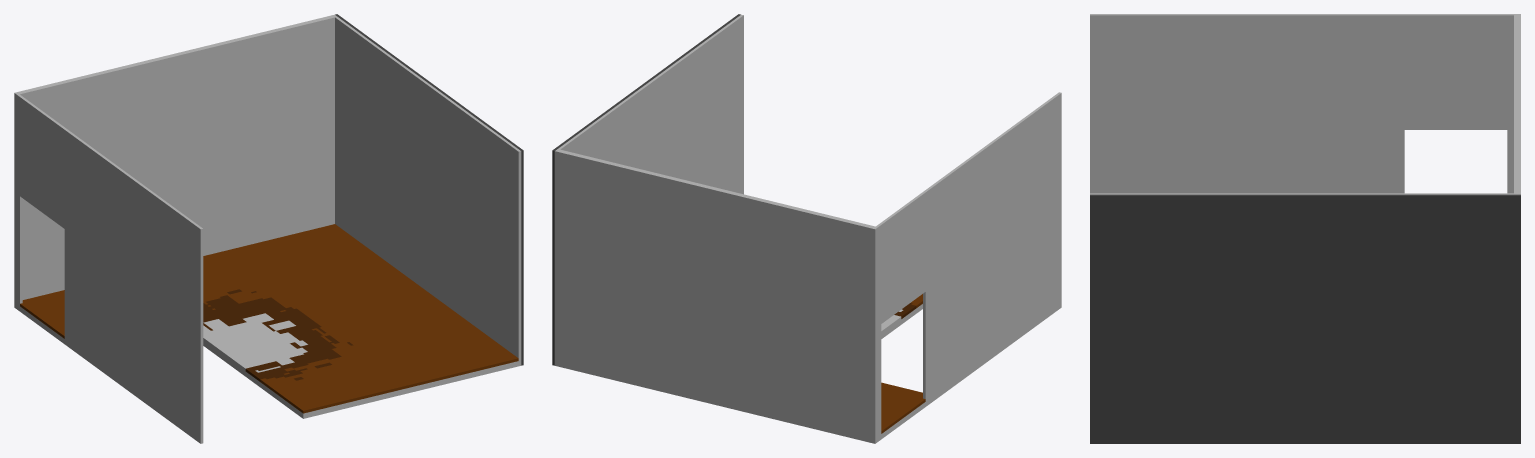
The model's file is 4x2 fourth (1)-2.obj.
The picture shows the model from 3 angles, left to right: view 1: azimuth 30°, elevation 25°; view 2: azimuth 150°, elevation 25°; view 3: azimuth 270°, elevation 25°; orthographic projection. The views are drawn at different scales.
Parts seen in each view (by area): view 1: 4x2 fourth (1)-2; view 2: 4x2 fourth (1)-2; view 3: 4x2 fourth (1)-2.
Boxes of the visible parts, box(x1,y1,x2,y2) form: 4x2 fourth (1)-2: box(14, 14, 523, 443); 4x2 fourth (1)-2: box(552, 14, 1061, 443); 4x2 fourth (1)-2: box(1090, 14, 1520, 443).
Size of the model in its own units: 126 by 80 by 126.
1 material, 1 textured.
